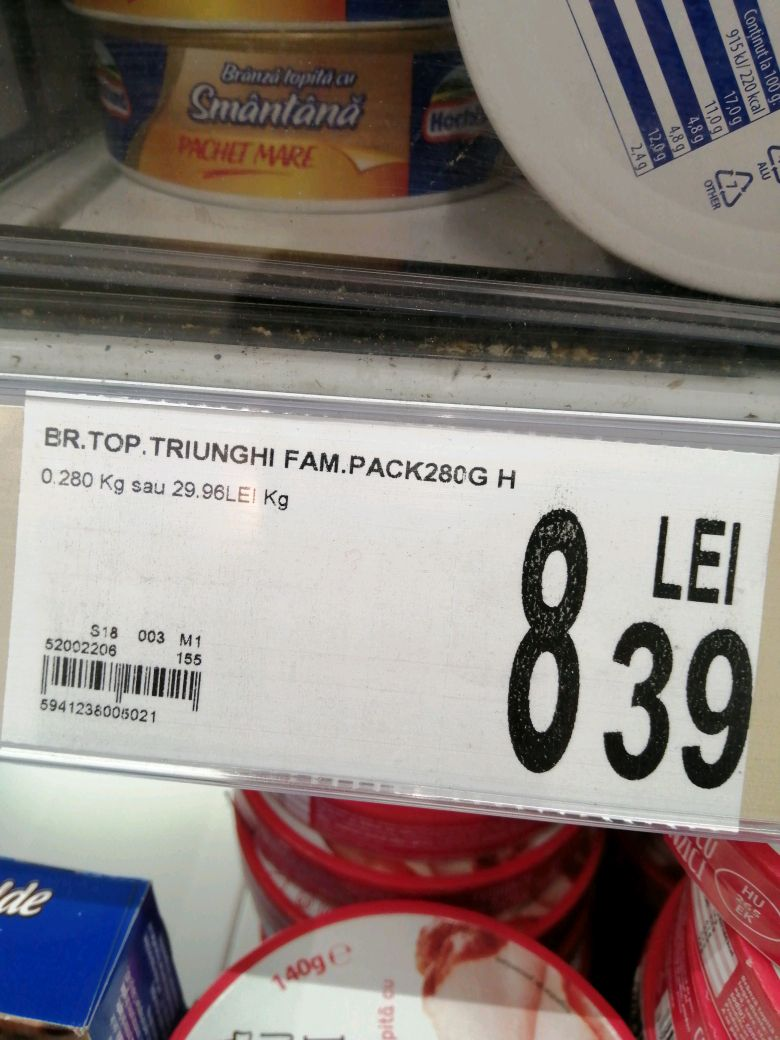price_bani: (599, 617, 756, 799)
price_lei: (475, 504, 589, 778)
price_tag: (6, 374, 771, 862)
product_id: (30, 693, 163, 735)
product_name: (31, 416, 522, 499)
